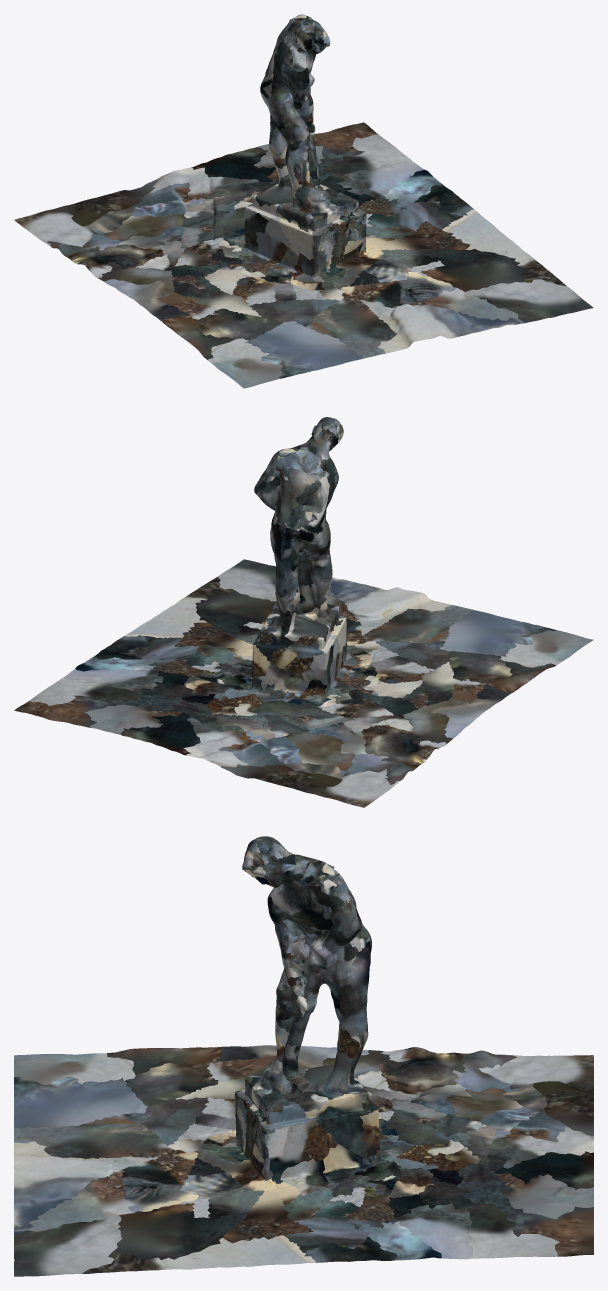
The model's file is gardener.obj.
3 renders of one model, top to bottom at view 1: azimuth 30°, elevation 25°; view 2: azimuth 150°, elevation 25°; view 3: azimuth 270°, elevation 25°, orthographic. The views are drawn at different scales.
Parts seen in each view (by area): view 1: Object; view 2: Object; view 3: Object.
Part boxes in pixels (x1,y1,x2,y2): Object: (14,14,593,388); Object: (14,417,593,807); Object: (14,836,593,1276).
Bounding box in the file's own units: 3.52 × 2.48 × 4.
